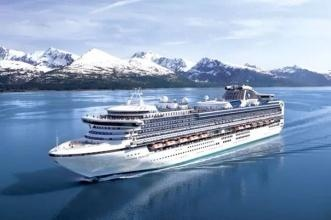youlun: (43, 72, 288, 187)
